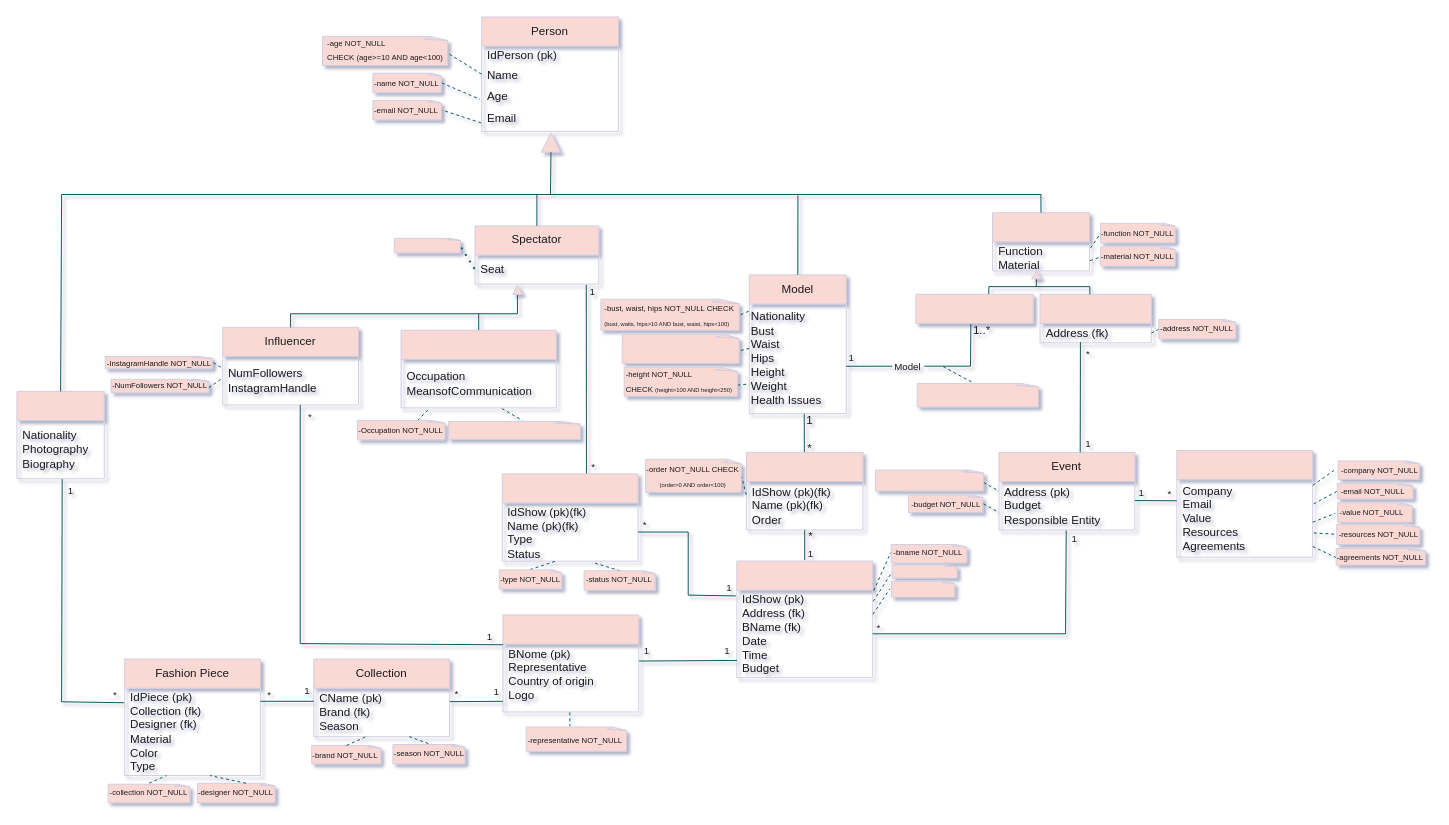
The diagram is 1449 pixels wide and 825 high, and some of its shapes have lost their labels. The box of each missing label's shape, as (x1, y1, x2, y2) in pixels:
-A specific model must be associated to at least one stylist: (916, 382, 1040, 407)
-date NOT_NULL: (891, 564, 958, 578)
-MeansofCommunication NOT_NULL: (448, 420, 582, 439)
-responsible entity NOT_NULL: (874, 469, 985, 491)
-seat NOT_NULL: (393, 237, 461, 253)
-time NOT_NULL: (891, 580, 955, 597)
-weight NOT_NULL CHECK (weight > 10 AND weight <1000): (621, 333, 740, 363)
Brand: (502, 614, 639, 712)
Designer: (16, 390, 104, 479)
Local Technician: (1039, 293, 1151, 343)
Media: (400, 329, 556, 408)
Model_Runway: (746, 451, 863, 530)
Runway: (736, 560, 873, 677)
Sponsor: (1176, 449, 1313, 557)
Styling Technician: (915, 293, 1033, 323)
Technician: (992, 212, 1090, 271)
Ticket: (501, 473, 638, 561)
